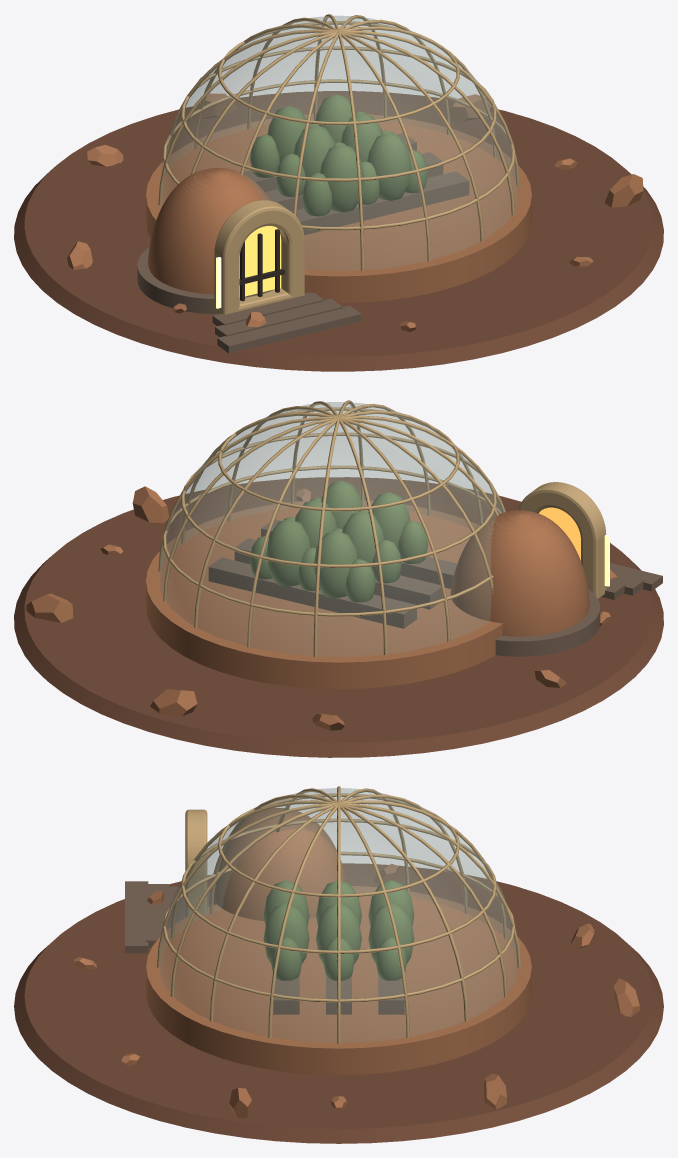
The model's file is green.glb.
3 renders of one model, top to bottom at view 1: azimuth 30°, elevation 25°; view 2: azimuth 150°, elevation 25°; view 3: azimuth 270°, elevation 25°, orthographic.
Parts seen in each view (by area): view 1: GREEN POD, Foundation, Regolith shell, Warm interior glazing; view 2: GREEN POD, Foundation, Regolith shell, Warm interior glazing; view 3: GREEN POD, Foundation, Regolith shell.
Boxes of the visible parts, left/top/right/bottom form: GREEN POD: left=67, top=14, right=643, bottom=353; Foundation: left=14, top=91, right=663, bottom=371; Regolith shell: left=147, top=168, right=270, bottom=294; Warm interior glazing: left=239, top=226, right=281, bottom=297; GREEN POD: left=26, top=400, right=662, bottom=730; Foundation: left=14, top=477, right=663, bottom=757; Regolith shell: left=450, top=510, right=589, bottom=636; Warm interior glazing: left=539, top=507, right=580, bottom=560; GREEN POD: left=74, top=786, right=640, bottom=1117; Foundation: left=14, top=863, right=663, bottom=1143; Regolith shell: left=209, top=808, right=346, bottom=920.
Size of the model in its own units: 6.2 by 2.23 by 6.2.
